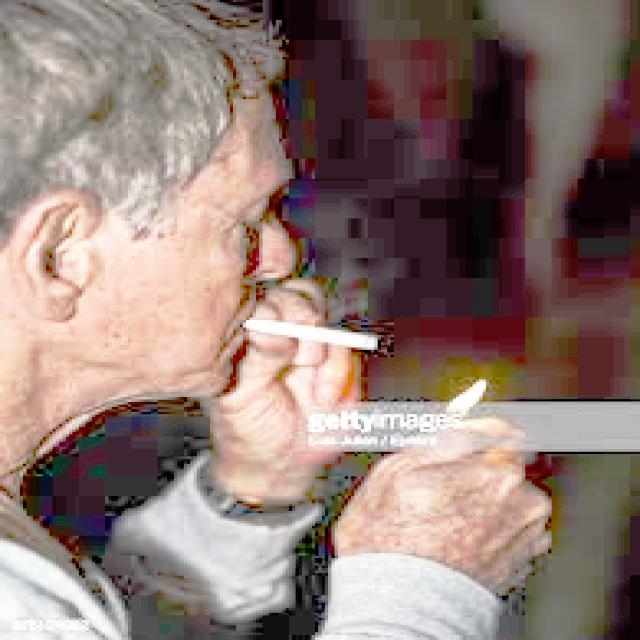api: (434, 376, 503, 423)
